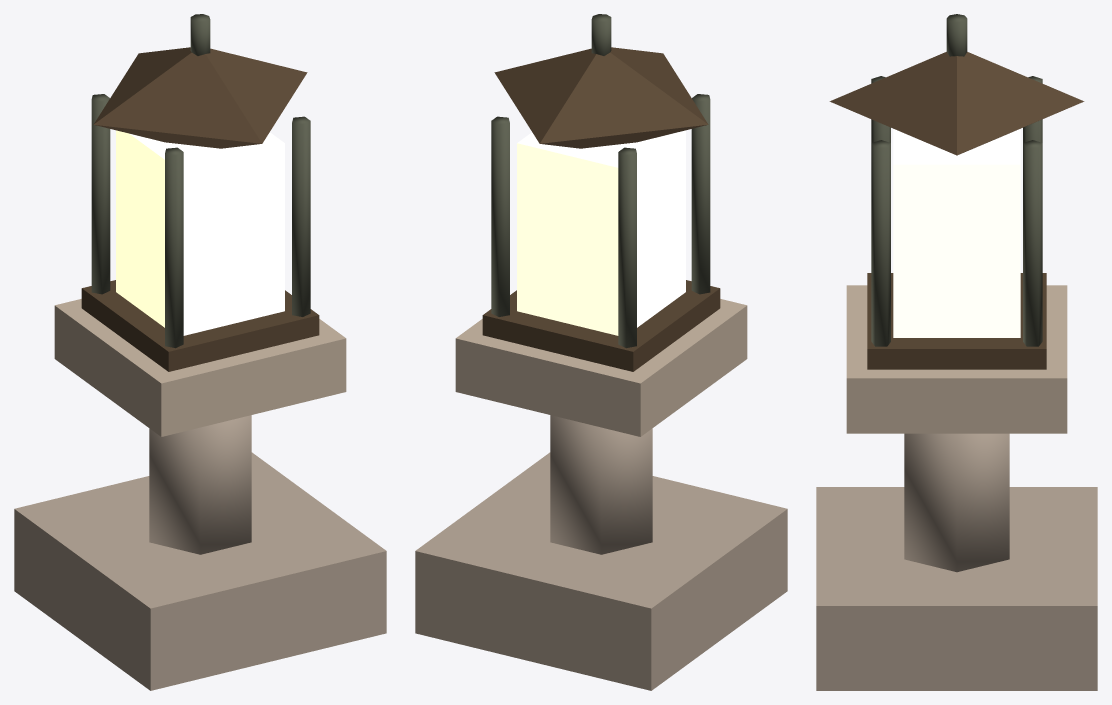
Rendered from lantern_stone.glb.
3 views of the same model, side by side, from view 1: azimuth 30°, elevation 25°; view 2: azimuth 150°, elevation 25°; view 3: azimuth 270°, elevation 25° (orthographic). The views are drawn at different scales.
Visible parts, largest first — view 1: lantern_stone; view 2: lantern_stone; view 3: lantern_stone.
Part boxes in pixels (left/top/right/bottom): lantern_stone: left=14, top=14, right=386, bottom=690; lantern_stone: left=415, top=14, right=787, bottom=690; lantern_stone: left=816, top=14, right=1097, bottom=690.
Size of the model in its own units: 0.6 by 1.44 by 0.6.
